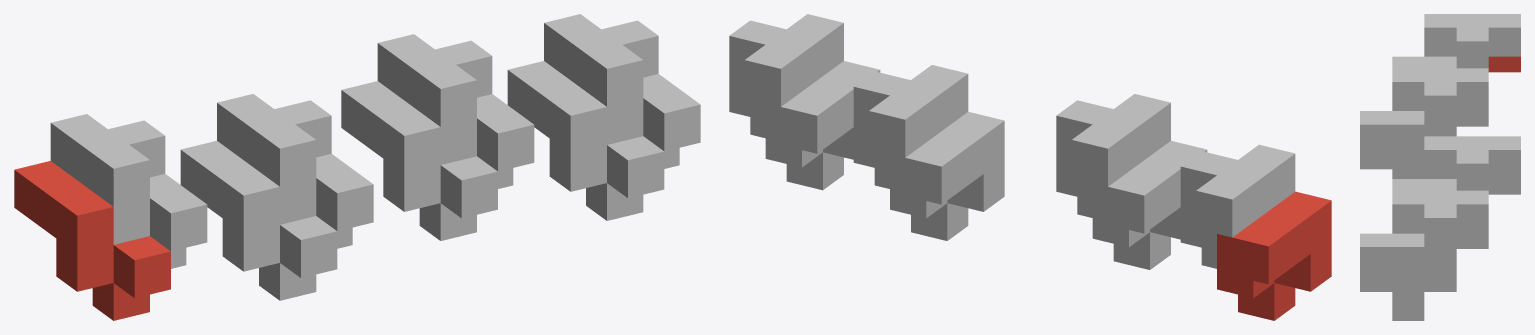
The model's file is tiling.obj.
3 views of the same model, side by side, from view 1: azimuth 30°, elevation 25°; view 2: azimuth 150°, elevation 25°; view 3: azimuth 270°, elevation 25° (orthographic). The views are drawn at different scales.
Visible parts, largest first — view 1: copy_1_domain_3, copy_1_domain_7, copy_1_domain_8, copy_1_domain_4, copy_1_domain_1, copy_1_domain_5, copy_1_domain_2, copy_1_domain_6; view 2: copy_1_domain_5, copy_1_domain_1, copy_1_domain_3, copy_1_domain_7, copy_1_domain_4, copy_1_domain_8, copy_1_domain_6, copy_1_domain_2; view 3: copy_1_domain_8, copy_1_domain_4, copy_1_domain_3, copy_1_domain_7, copy_1_domain_6, copy_1_domain_2, copy_1_domain_1, copy_1_domain_5.
Part boxes in pixels (left/top/right/bottom): copy_1_domain_3: left=50, top=114, right=207, bottom=268; copy_1_domain_7: left=377, top=34, right=534, bottom=188; copy_1_domain_8: left=544, top=14, right=700, bottom=168; copy_1_domain_4: left=217, top=94, right=373, bottom=248; copy_1_domain_1: left=14, top=161, right=170, bottom=320; copy_1_domain_5: left=341, top=81, right=497, bottom=240; copy_1_domain_2: left=180, top=140, right=337, bottom=300; copy_1_domain_6: left=507, top=61, right=664, bottom=220; copy_1_domain_5: left=890, top=111, right=1004, bottom=240; copy_1_domain_1: left=1217, top=191, right=1331, bottom=320; copy_1_domain_3: left=1180, top=144, right=1295, bottom=268; copy_1_domain_7: left=853, top=65, right=968, bottom=188; copy_1_domain_4: left=1056, top=94, right=1170, bottom=217; copy_1_domain_8: left=729, top=14, right=843, bottom=138; copy_1_domain_6: left=765, top=61, right=880, bottom=190; copy_1_domain_2: left=1092, top=140, right=1207, bottom=269; copy_1_domain_8: left=1360, top=190, right=1488, bottom=305; copy_1_domain_4: left=1360, top=68, right=1488, bottom=178; copy_1_domain_3: left=1392, top=14, right=1520, bottom=68; copy_1_domain_7: left=1392, top=136, right=1520, bottom=190; copy_1_domain_6: left=1360, top=233, right=1488, bottom=320; copy_1_domain_2: left=1360, top=111, right=1488, bottom=169; copy_1_domain_1: left=1488, top=56, right=1520, bottom=72; copy_1_domain_5: left=1488, top=179, right=1520, bottom=194.
Bounding box in the file's own units: 16 × 4 × 5.
